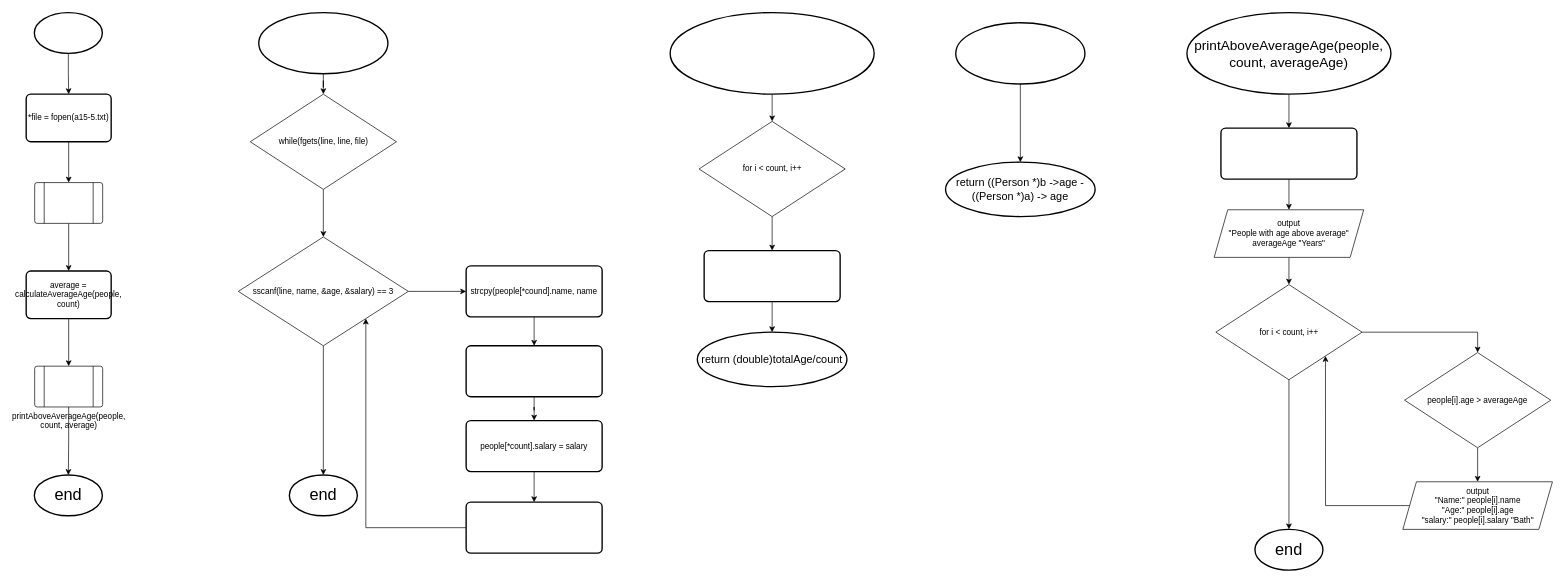
Some shapes in this 1564 by 582 pixel diagram are drawn without their labels. Here are the shapes that lost their labels. From the top down, the centre of each, then its label:
(68,33): start
(323,43): readData(*file, people, *count)
(771,53): calculateAverageAge(people, count)
(1020,53): compareByAge(*a, *b)
(1288,153): qsort(people, count, person), compareByAge)
(68,202): readData(file, people, &count)
(771,276): totalAge = people[i].age
(533,371): people[*count].age = age
(533,527): (*count)++
